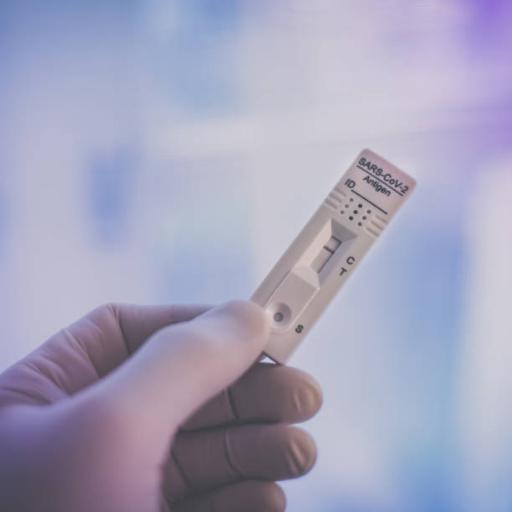Neg: (224, 148, 419, 369)
